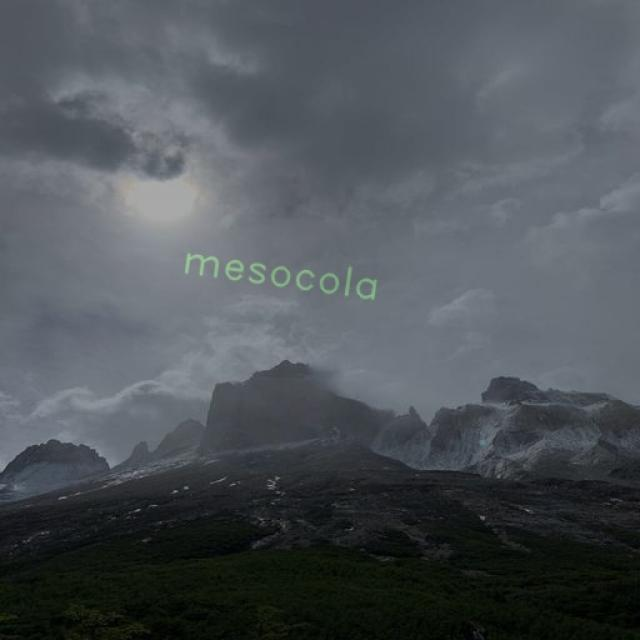watermark: (170, 241, 407, 307)
